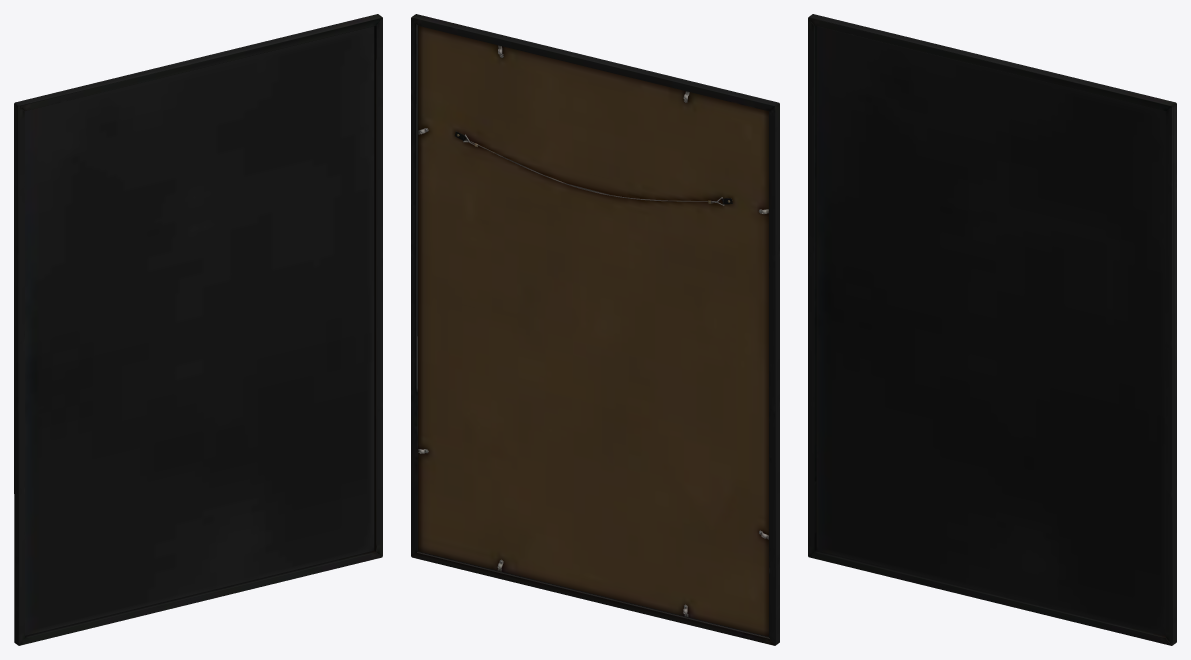
File: hanging_picture_frame_01.glb
3 views of the same model, side by side, from view 1: azimuth 30°, elevation 25°; view 2: azimuth 150°, elevation 25°; view 3: azimuth 330°, elevation 25° (orthographic).
Visible parts, largest first — view 1: hanging_picture_frame_01; view 2: hanging_picture_frame_01_lo, hanging_picture_frame_01; view 3: hanging_picture_frame_01.
Part boxes in pixels (bbox=[...]): hanging_picture_frame_01: bbox=[14, 14, 382, 645]; hanging_picture_frame_01_lo: bbox=[418, 26, 768, 636]; hanging_picture_frame_01: bbox=[411, 14, 779, 645]; hanging_picture_frame_01: bbox=[808, 14, 1176, 645].
Size of the model in its own units: 0.594 by 0.841 by 0.0157.
Materials: 3 (3 with a texture image).
